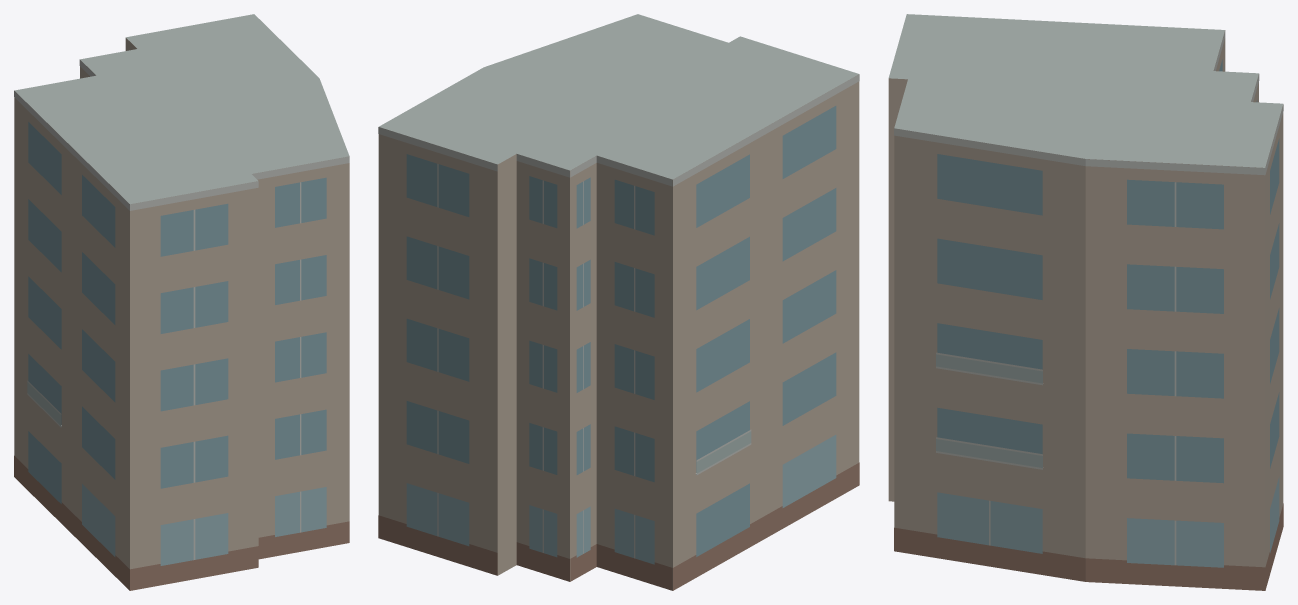
Rendered from survey-upis-32659473.glb.
3 views of the same model, side by side, from view 1: azimuth 30°, elevation 25°; view 2: azimuth 150°, elevation 25°; view 3: azimuth 270°, elevation 25° (orthographic). The views are drawn at different scales.
Parts seen in each view (by area): view 1: survey-upis-32659473.tmp; view 2: survey-upis-32659473.tmp; view 3: survey-upis-32659473.tmp.
Boxes of the visible parts, <box> form: survey-upis-32659473.tmp: <box>14,14,349,590</box>; survey-upis-32659473.tmp: <box>378,14,859,590</box>; survey-upis-32659473.tmp: <box>888,14,1283,590</box>.
Bounding box in the file's own units: 11.01 × 14.1 × 11.94.
